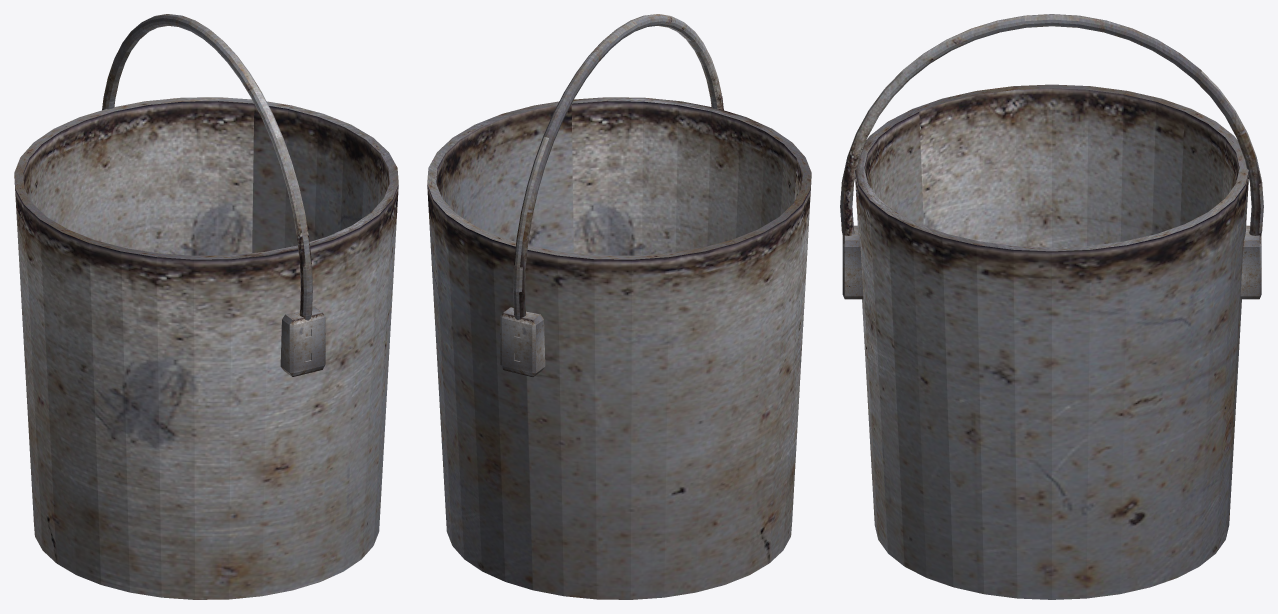
Rendered from Lvl3_paintbucket02.fbx.
3 renders of one model, left to right at view 1: azimuth 30°, elevation 25°; view 2: azimuth 150°, elevation 25°; view 3: azimuth 270°, elevation 25°, orthographic. The views are drawn at different scales.
Parts seen in each view (by area): view 1: bucket, bucket_handle, bucket_clip2; view 2: bucket, bucket_handle, bucket_clip1; view 3: bucket, bucket_handle, bucket_clip1, bucket_clip2.
Boxes of the visible parts, <box> form: bucket: <box>14,97,398,599</box>; bucket_handle: <box>102,14,312,320</box>; bucket_clip2: <box>280,307,325,376</box>; bucket: <box>427,97,811,599</box>; bucket_handle: <box>513,14,723,319</box>; bucket_clip1: <box>500,307,545,376</box>; bucket: <box>855,84,1248,599</box>; bucket_handle: <box>840,14,1263,237</box>; bucket_clip1: <box>1240,225,1261,299</box>; bucket_clip2: <box>842,225,863,299</box>.
Size of the model in its own units: 5.12 by 7.3 by 5.5.
Materials: 1 (1 with a texture image).
